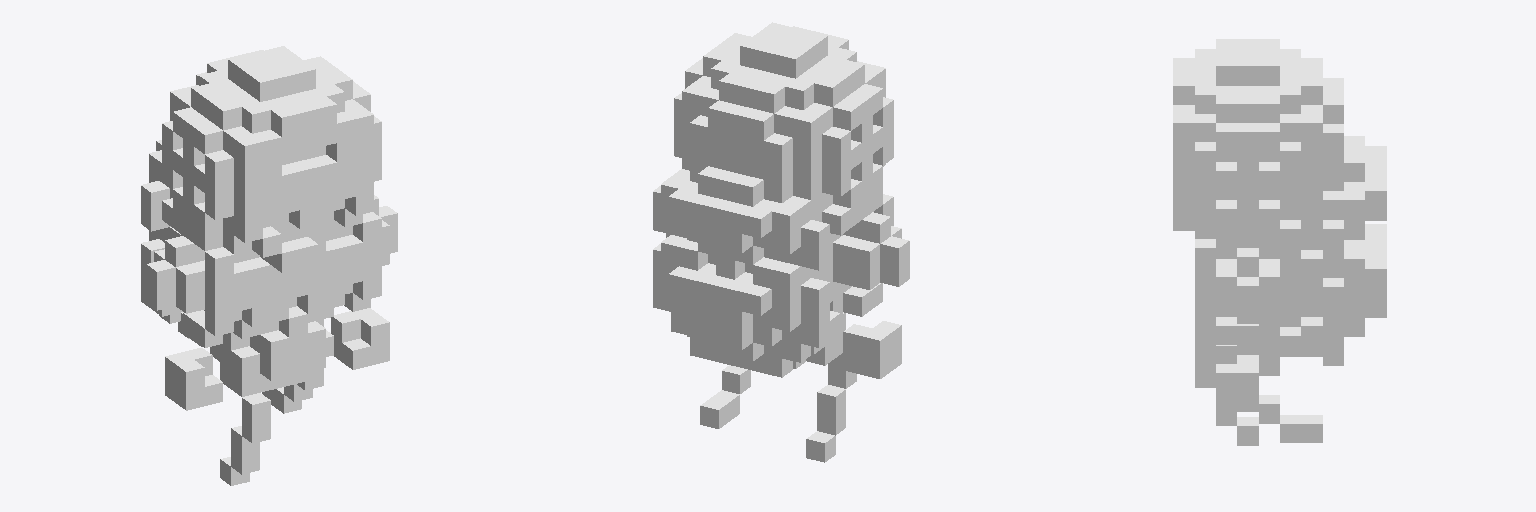
The model's file is player_walk-05.obj.
3 renders of one model, left to right at view 1: azimuth 30°, elevation 25°; view 2: azimuth 150°, elevation 25°; view 3: azimuth 270°, elevation 25°, orthographic.
Bounding box in the file's own units: 13 × 21 × 10.